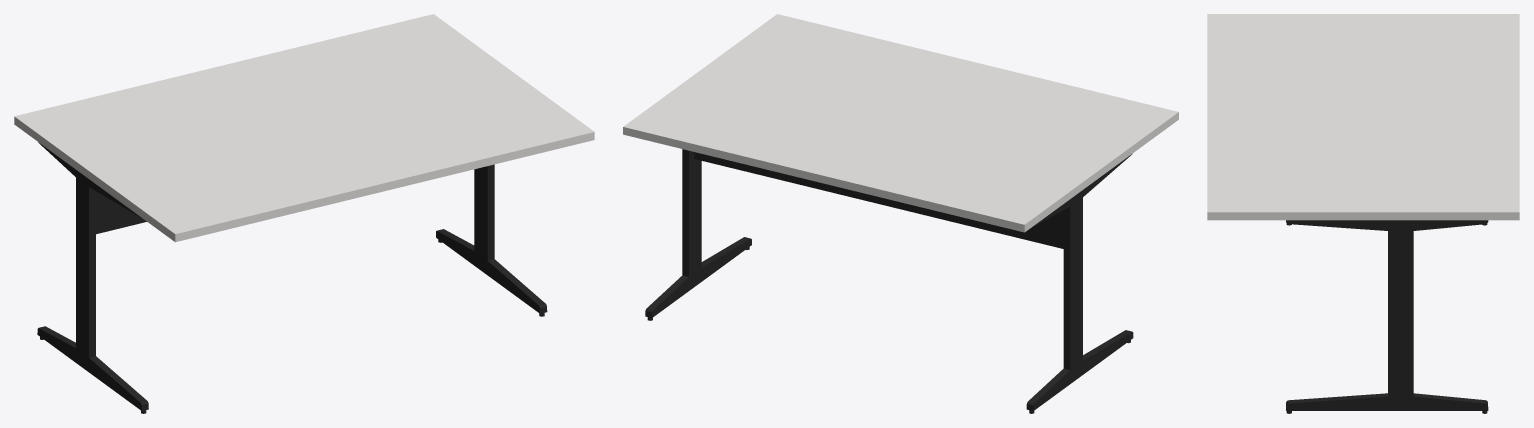
File: desk_white.fbx
3 renders of one model, left to right at view 1: azimuth 30°, elevation 25°; view 2: azimuth 150°, elevation 25°; view 3: azimuth 270°, elevation 25°, orthographic. The views are drawn at different scales.
Visible parts, largest first — view 1: desk_white; view 2: desk_white; view 3: desk_white.
Boxes of the visible parts, <box> form: desk_white: <box>14,14,594,413</box>; desk_white: <box>623,14,1178,413</box>; desk_white: <box>1207,14,1519,413</box>.
Bounding box in the file's own units: 152 × 73.28 × 101.
1 material, 1 textured.
